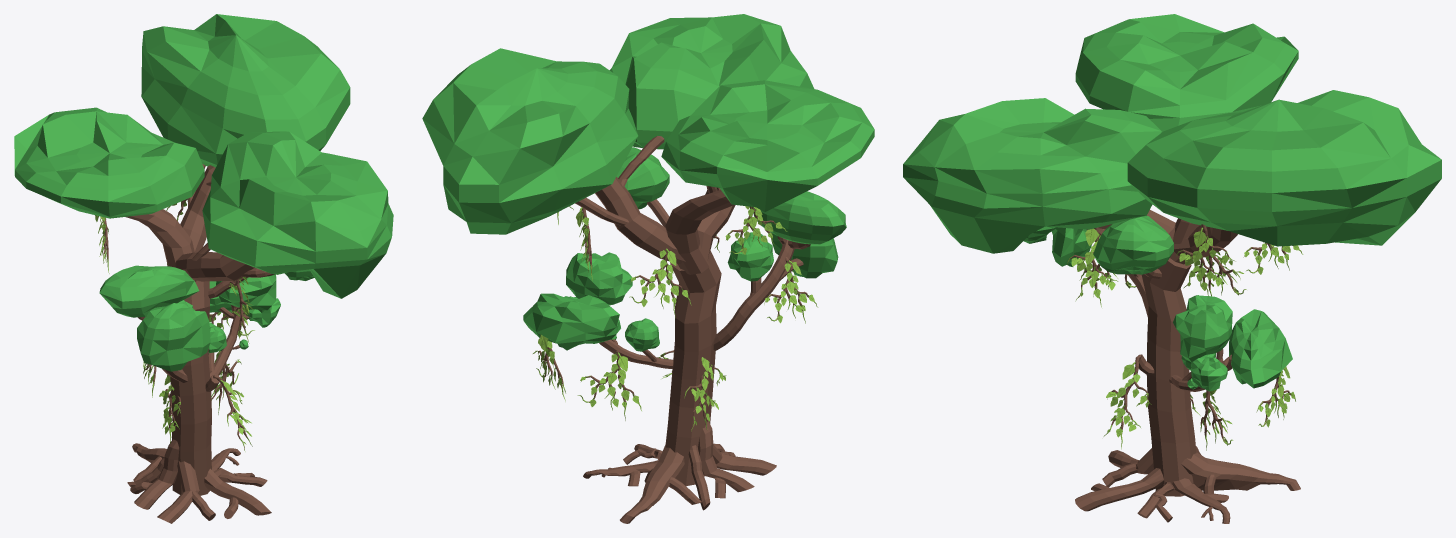
Rendered from BROKEN Vine Covered Tree (1).fbx.
3 views of the same model, side by side, from view 1: azimuth 30°, elevation 25°; view 2: azimuth 150°, elevation 25°; view 3: azimuth 270°, elevation 25° (orthographic). The views are drawn at different scales.
Visible parts, largest first — view 1: group1013485813.004, group470830306.004, group2102882934.002, group470830306.006, group2102882934.006, group1013485813.014, group2028584967.004, group1458414534.002, group1013485813.012, group739545581.006, group1013485813.010, group1013485813.002 (+22 smaller); view 2: group470830306.004, group2102882934.002, group1013485813.004, group470830306.006, group2102882934.006, group739545581.006, group1198685851.006, group470830306.010, group470830306.012, group1553637318.004, group1458414534.002, group1156426880.002 (+32 smaller); view 3: group470830306.004, group470830306.002, group2102882934.006, group1013485813.010, group1013485813.004, group2102882934.002, group1013485813.008, group470830306.010, group1013485813.002, group1156426880.002, group470830306.008, group1198685851.006 (+20 smaller).
Part boxes in pixels (x1,y1,x2,y2): group1013485813.004: (210,131,386,251); group470830306.004: (163,14,349,141); group2102882934.002: (14,112,157,218); group470830306.006: (141,26,266,154); group2102882934.006: (56,107,204,211); group1013485813.014: (202,175,315,274); group2028584967.004: (141,303,210,371); group1458414534.002: (99,265,193,301); group1013485813.012: (309,248,385,298); group739545581.006: (170,355,211,424); group1013485813.010: (327,153,393,264); group1013485813.002: (290,132,366,195); group470830306.004: (422,48,617,184); group2102882934.002: (717,90,874,211); group1013485813.004: (628,14,806,131); group470830306.006: (499,76,638,202); group2102882934.006: (661,80,817,188); group739545581.006: (670,274,721,408); group1198685851.006: (523,293,620,343); group470830306.010: (443,166,561,223); group470830306.012: (467,136,637,234); group1553637318.004: (566,252,631,305); group1458414534.002: (760,191,845,226); group1156426880.002: (616,147,669,209); group470830306.004: (1128,90,1441,188); group470830306.002: (1147,140,1406,226); group2102882934.006: (1075,38,1298,112); group1013485813.010: (903,133,1144,217); group1013485813.004: (903,98,1161,180); group2102882934.002: (1076,14,1297,71); group1013485813.008: (931,196,1152,253); group470830306.010: (1127,160,1441,226); group1013485813.002: (966,121,1161,168); group1156426880.002: (1093,215,1173,274); group470830306.008: (1165,213,1414,246); group1198685851.006: (1229,311,1292,388).
Size of the model in its own units: 1.16 by 1.31 by 1.44.
